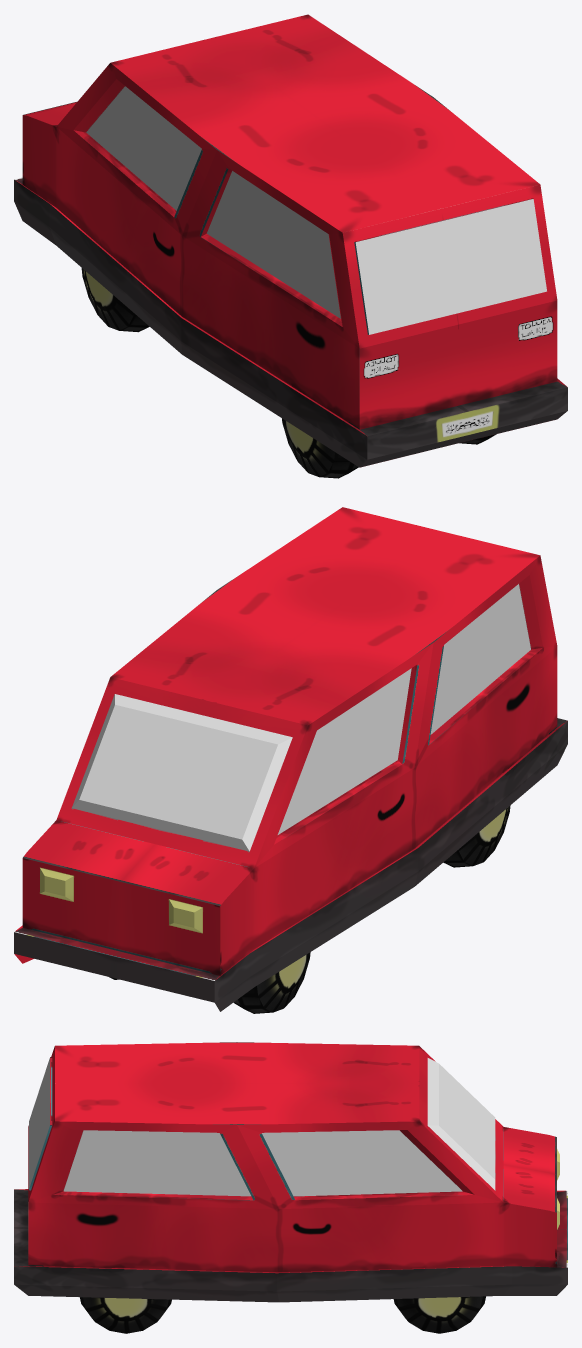
Rendered from car.fbx.
The picture shows the model from 3 angles, top to bottom: view 1: azimuth 30°, elevation 25°; view 2: azimuth 150°, elevation 25°; view 3: azimuth 270°, elevation 25°; orthographic projection. The views are drawn at different scales.
Visible parts, largest first — view 1: CarMaterial, wheels; view 2: CarMaterial, wheels; view 3: CarMaterial, wheels.
Part boxes in pixels (box(x1,y1,x2,y2)): CarMaterial: box(14, 14, 567, 467); wheels: box(81, 268, 496, 478); CarMaterial: box(14, 507, 567, 1011); wheels: box(109, 805, 510, 1013); CarMaterial: box(14, 1042, 567, 1302); wheels: box(80, 1296, 485, 1333).
Bounding box in the file's own units: 240 × 272 × 619.
